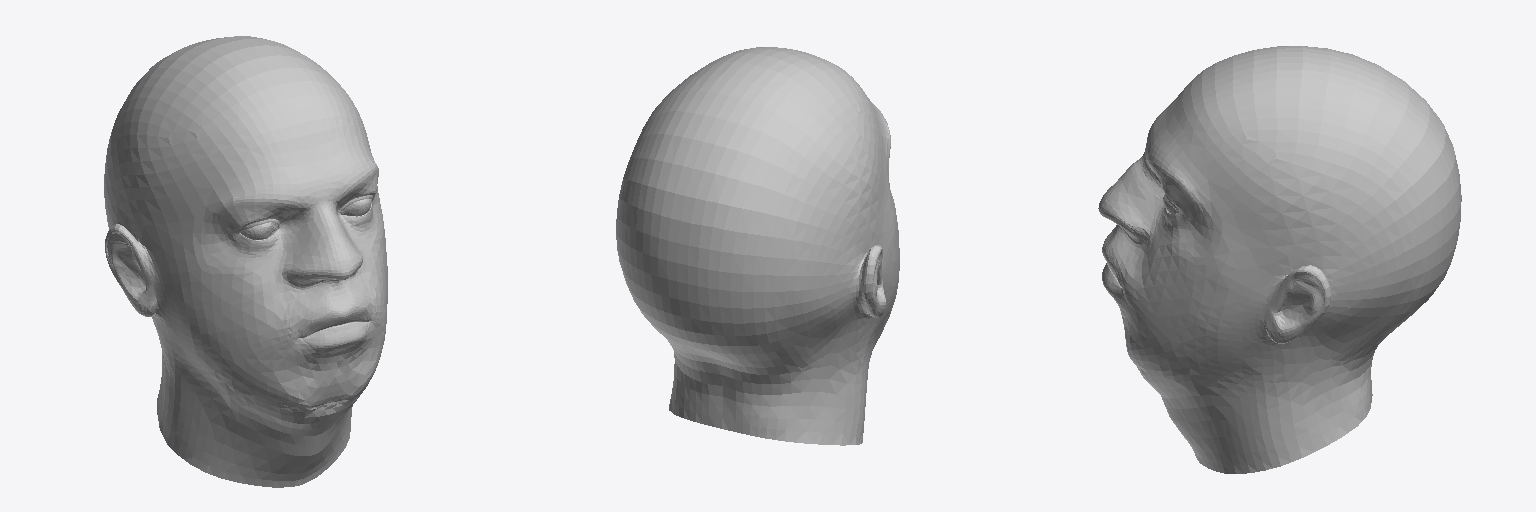
3 views of the same model, side by side, from view 1: azimuth 30°, elevation 25°; view 2: azimuth 150°, elevation 25°; view 3: azimuth 270°, elevation 25° (orthographic).
Visible parts, largest first — view 1: FaceGen; view 2: FaceGen; view 3: FaceGen.
Boxes of the visible parts, box(x1,y1,x2,y2) form: FaceGen: box(104, 36, 387, 487); FaceGen: box(616, 47, 899, 445); FaceGen: box(1098, 46, 1461, 473).
Size of the model in its own units: 187 by 277 by 229.